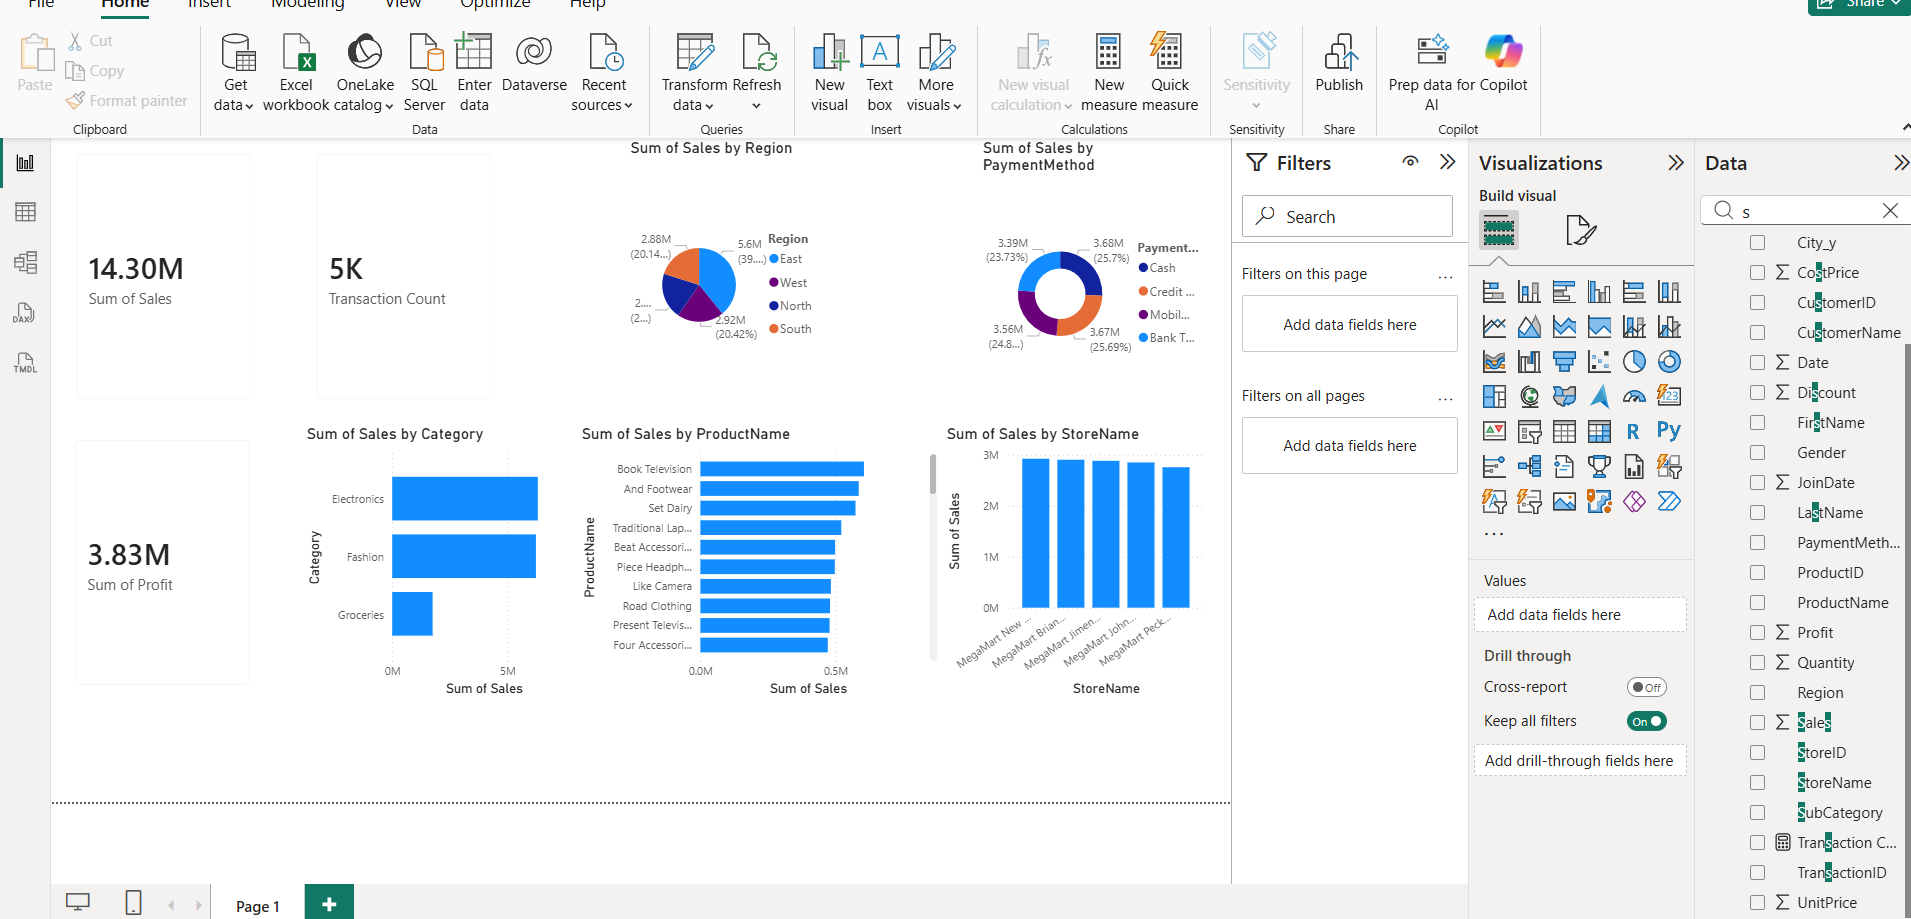

Layout of this report page (visuals, bound fields, positions):
{"tool":"powerbi","page":{"name":"Page 1","canvas":[1280,720],"ordinal":0},"visuals":[{"type":"cardVisual","fields":{"Data":["Sum(Sheet1.Sales)","Sum(Sheet1.Sales)"]},"box":[10.2,0,223.3,300],"z":0},{"type":"cardVisual","fields":{"Data":["Sum(Sheet1.Profit)"]},"box":[10,310,223,300],"z":1},{"type":"cardVisual","fields":{"Data":["Sheet1.Transaction Count"]},"box":[271.5,0,223,300],"z":2},{"type":"clusteredBarChart","fields":{"Category":["Sheet1.Category"],"Y":["Sum(Sheet1.Sales)"]},"box":[272.7,310.2,311.9,300],"z":3},{"type":"pieChart","fields":{"Category":["Sheet1.Region"],"Y":["Sum(Sheet1.Sales)"]},"box":[623.5,0,223,300],"z":4},{"type":"clusteredBarChart","fields":{"Category":["Sheet1.ProductName"],"Y":["Sum(Sheet1.Sales)"]},"box":[571,310.2,395.5,300],"z":5},{"type":"donutChart","fields":{"Category":["Sheet1.PaymentMethod"],"Y":["Sum(Sheet1.Sales)"]},"box":[1005.7,0,250.6,300],"z":6},{"type":"clusteredColumnChart","fields":{"Category":["Sheet1.StoreName"],"Y":["Sum(Sheet1.Sales)"]},"box":[966.5,310.2,289.8,300],"z":7}]}

Visuals, with their boxes on the page's 1280x720 design canvas (x1, y1, x2, y2). These are canvas units, not pixel positions in the 1911x919 screenshot, which may show the page scaled, cropped or inside an application window:
cardVisual - Sum(Sheet1.Sales) x Sum(Sheet1.Sales): region(10, 0, 234, 300)
cardVisual - Sum(Sheet1.Profit): region(10, 310, 233, 610)
cardVisual - Sheet1.Transaction Count: region(272, 0, 494, 300)
clusteredBarChart - Sheet1.Category x Sum(Sheet1.Sales): region(273, 310, 585, 610)
pieChart - Sheet1.Region x Sum(Sheet1.Sales): region(624, 0, 846, 300)
clusteredBarChart - Sheet1.ProductName x Sum(Sheet1.Sales): region(571, 310, 966, 610)
donutChart - Sheet1.PaymentMethod x Sum(Sheet1.Sales): region(1006, 0, 1256, 300)
clusteredColumnChart - Sheet1.StoreName x Sum(Sheet1.Sales): region(966, 310, 1256, 610)
